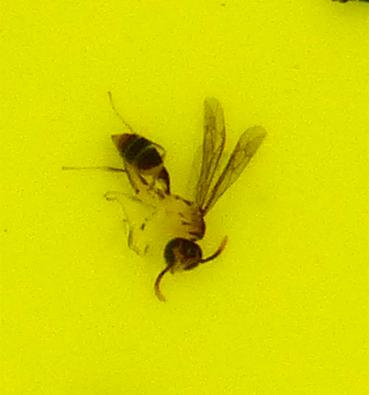Hymenoptera: (100, 100, 269, 295)
